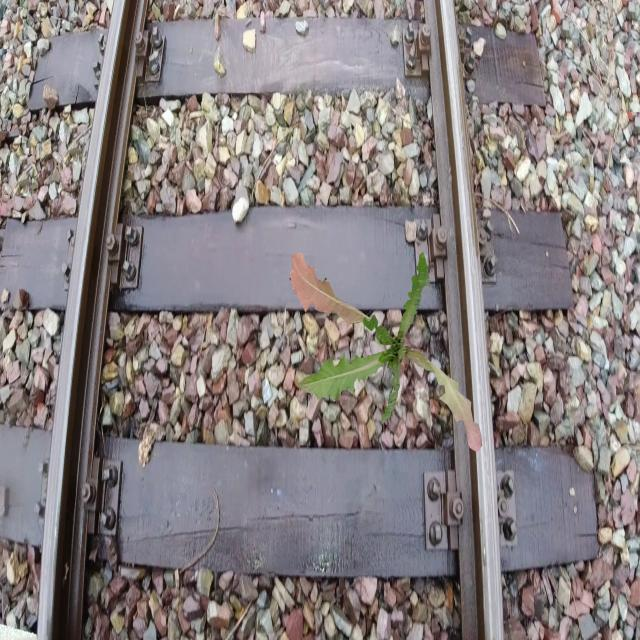Plant: (290, 250, 482, 452)
